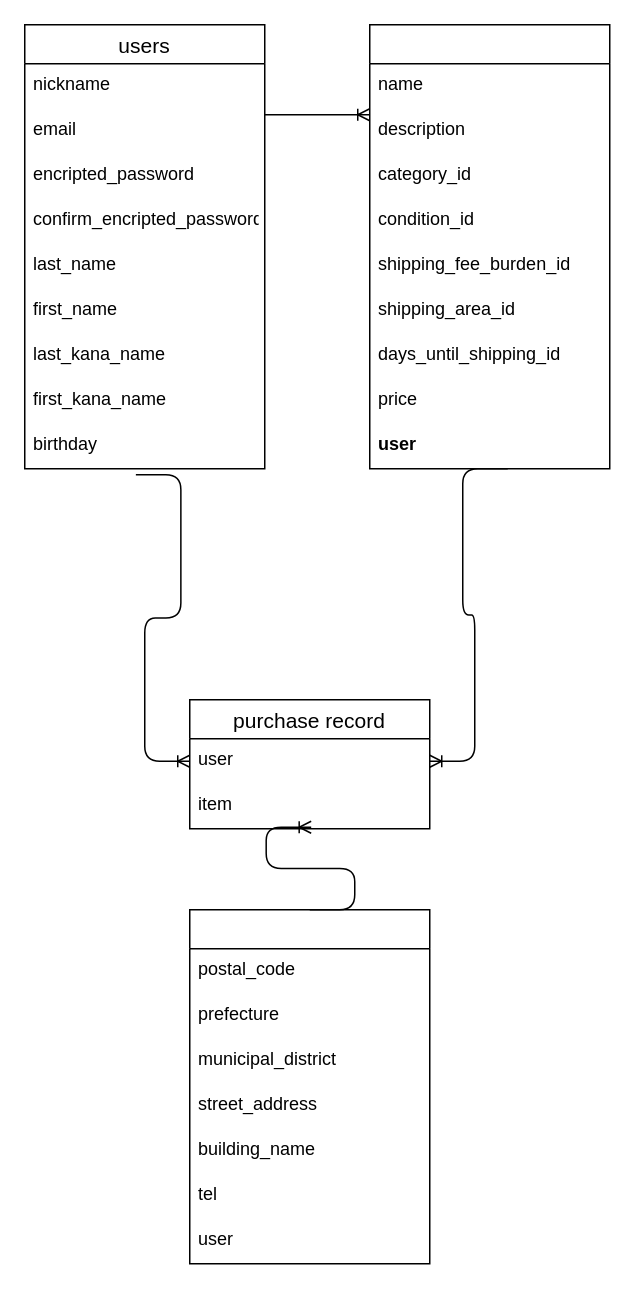
Image size: 635x1289. Some labels were removed from this diagram. The box of each missing label's shape, as (x1, y1, x2, y2) in pixels:
items: (368, 23, 610, 469)
shipping information: (188, 908, 430, 1264)
